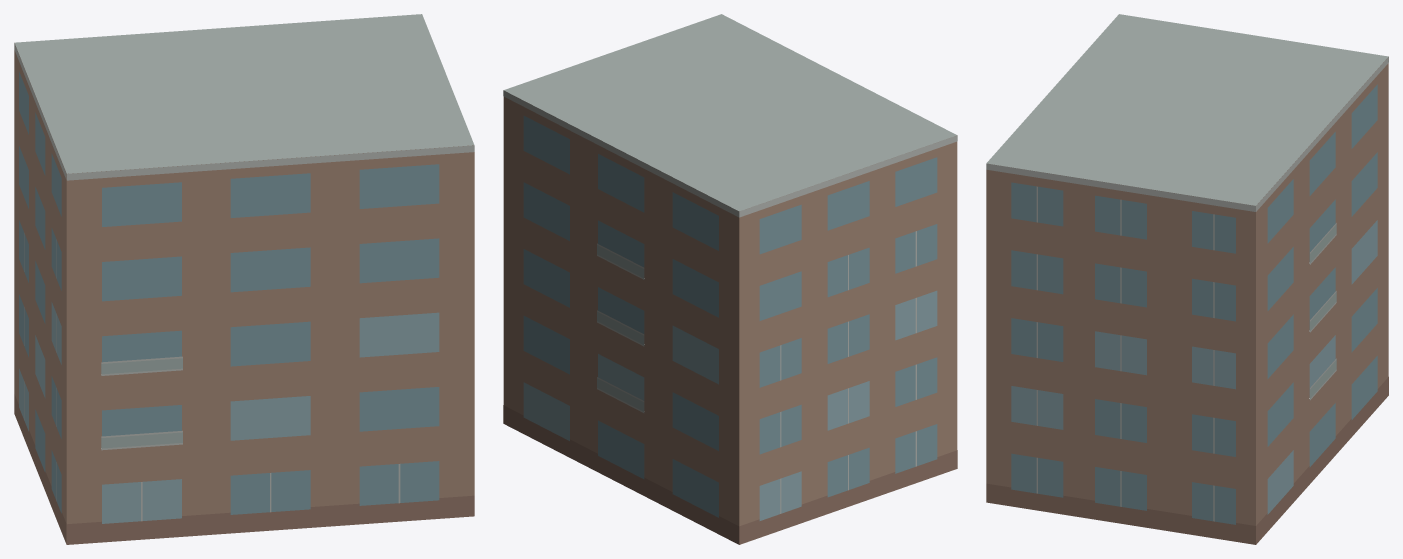
File: survey-upis-32709533.glb
3 views of the same model, side by side, from view 1: azimuth 30°, elevation 25°; view 2: azimuth 150°, elevation 25°; view 3: azimuth 270°, elevation 25° (orthographic). The views are drawn at different scales.
Visible parts, largest first — view 1: survey-upis-32709533.tmp; view 2: survey-upis-32709533.tmp; view 3: survey-upis-32709533.tmp.
Boxes of the visible parts, <box> form: survey-upis-32709533.tmp: <box>14,14,474,544</box>; survey-upis-32709533.tmp: <box>503,14,957,544</box>; survey-upis-32709533.tmp: <box>986,14,1388,544</box>.
Size of the model in its own units: 16.15 by 13.3 by 14.32.
